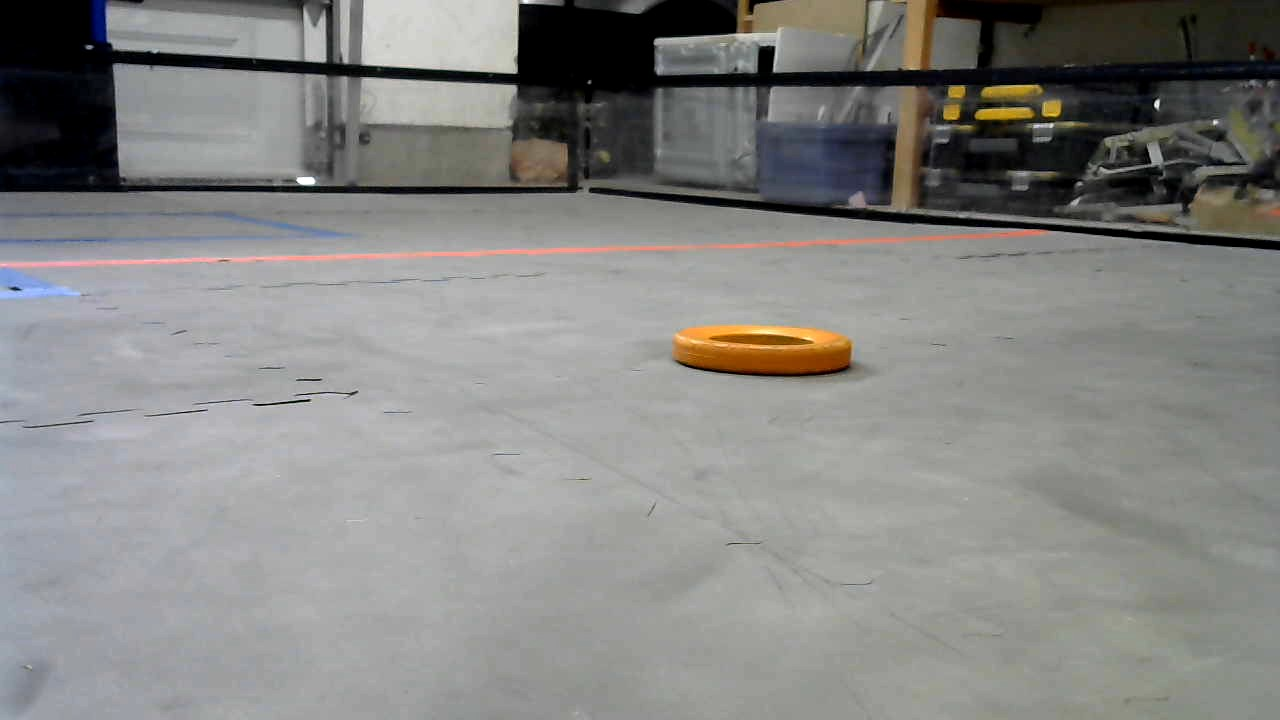OneStack: (673, 322, 851, 377)
